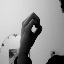o: (19, 11, 44, 44)
